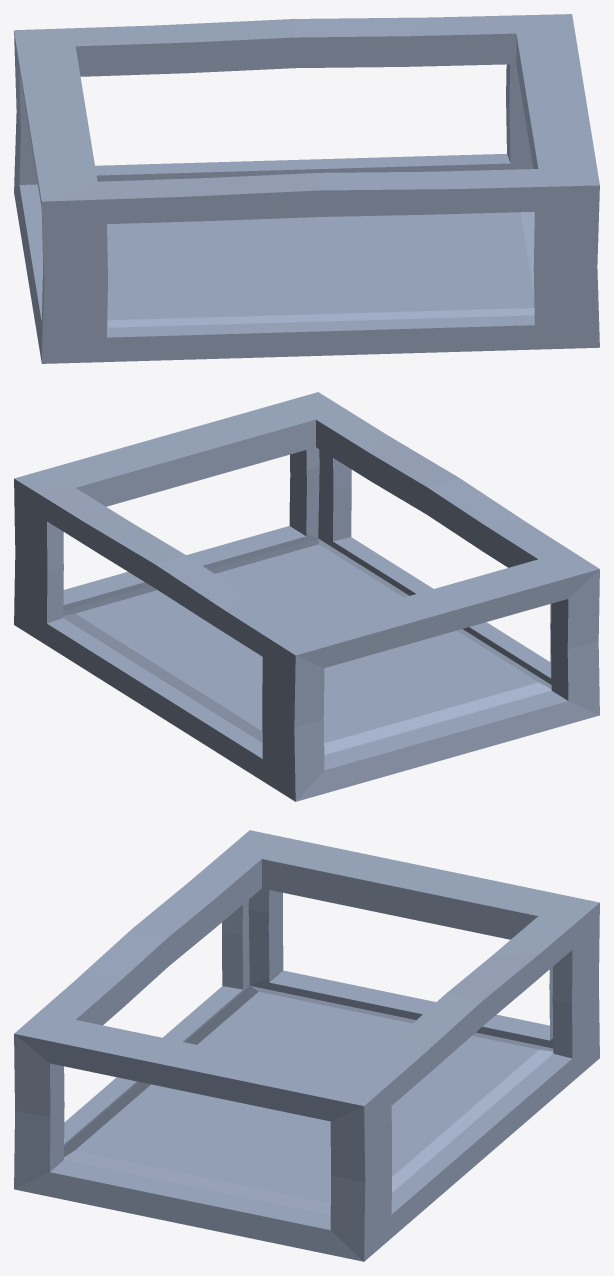
The model's file is n2_chest_bottom_light_grey_0_lev2.004.glb.
3 renders of one model, top to bottom at view 1: azimuth 30°, elevation 25°; view 2: azimuth 150°, elevation 25°; view 3: azimuth 270°, elevation 25°, orthographic. The views are drawn at different scales.
Visible parts, largest first — view 1: n2_chest_bottom_light_grey_0_lev2.004; view 2: n2_chest_bottom_light_grey_0_lev2.004; view 3: n2_chest_bottom_light_grey_0_lev2.004.
Boxes of the visible parts, x1=… form: n2_chest_bottom_light_grey_0_lev2.004: x1=14, y1=14, x2=599, y2=363; n2_chest_bottom_light_grey_0_lev2.004: x1=14, y1=392, x2=599, y2=801; n2_chest_bottom_light_grey_0_lev2.004: x1=14, y1=830, x2=599, y2=1261.
Bounding box in the file's own units: 2.2 × 0.589 × 1.97.
